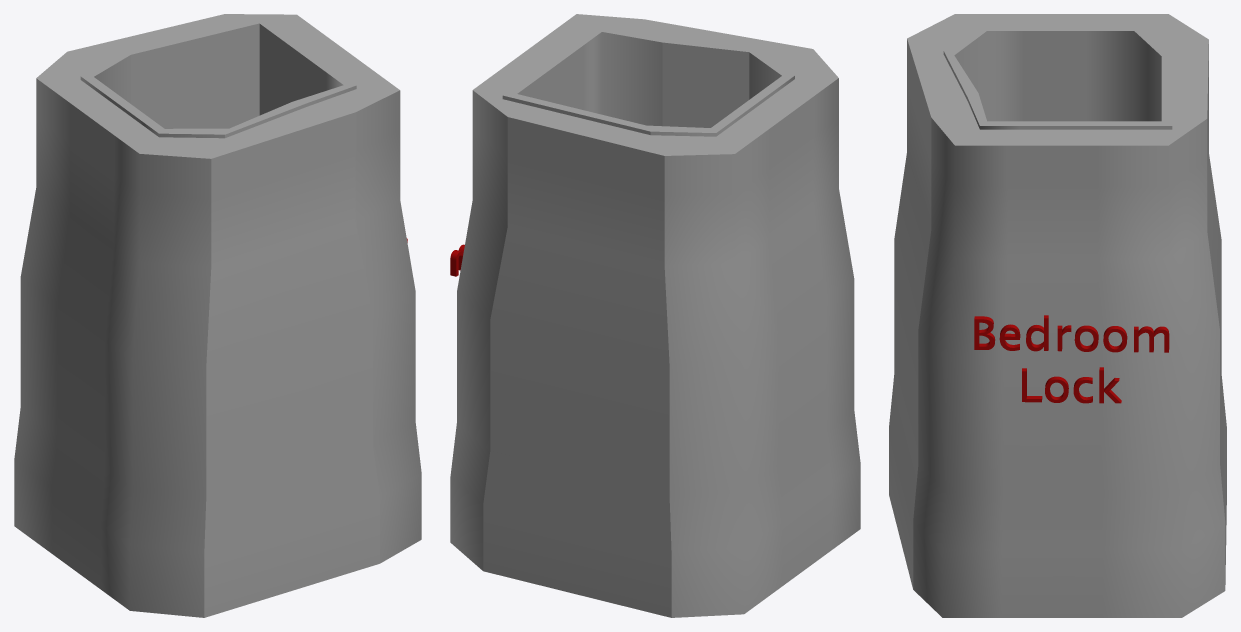
Rendered from bedroom access.fbx.
3 renders of one model, left to right at view 1: azimuth 30°, elevation 25°; view 2: azimuth 150°, elevation 25°; view 3: azimuth 270°, elevation 25°, orthographic. The views are drawn at different scales.
Visible parts, largest first — view 1: pCube1; view 2: pCube1; view 3: pCube1, typeMesh1.
Boxes of the visible parts, left/top/right/bottom form: pCube1: left=14, top=14, right=421, bottom=617; pCube1: left=450, top=14, right=860, bottom=617; pCube1: left=889, top=14, right=1226, bottom=617; typeMesh1: left=974, top=315, right=1169, bottom=403.
Size of the model in its own units: 3.68 by 5.34 by 3.49.
